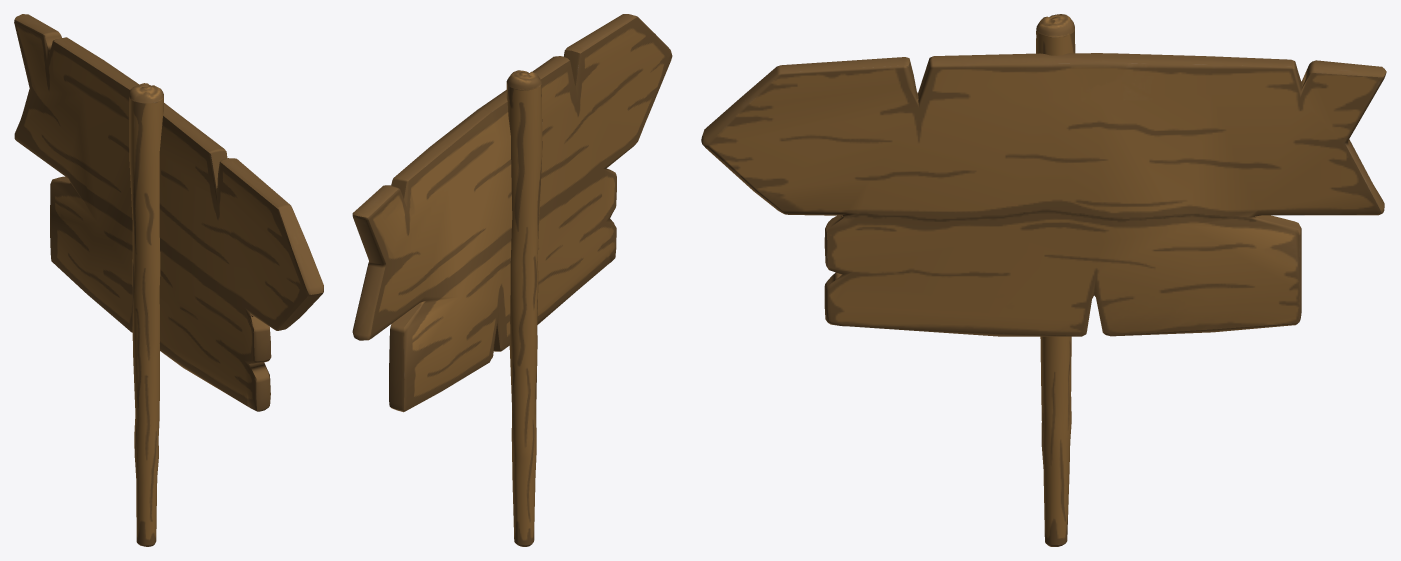
The model's file is SIGNFINISHED.fbx.
The picture shows the model from 3 angles, left to right: view 1: azimuth 30°, elevation 25°; view 2: azimuth 150°, elevation 25°; view 3: azimuth 270°, elevation 25°; orthographic projection. The views are drawn at different scales.
Parts seen in each view (by area): view 1: Blank_Sign1:group6_Wood_01_07_low6SG, Blank_Sign1:Wood_01_07_low_Wood_01_07_low6SG; view 2: Blank_Sign1:group6_Wood_01_07_low6SG, Blank_Sign1:Wood_01_07_low_Wood_01_07_low6SG; view 3: Blank_Sign1:group6_Wood_01_07_low6SG, Blank_Sign1:Wood_01_07_low_Wood_01_07_low6SG.
Part boxes in pixels (x1=…): Blank_Sign1:group6_Wood_01_07_low6SG: x1=14, y1=14, x2=323, y2=411; Blank_Sign1:Wood_01_07_low_Wood_01_07_low6SG: x1=129, y1=83, x2=163, y2=546; Blank_Sign1:group6_Wood_01_07_low6SG: x1=352, y1=14, x2=672, y2=412; Blank_Sign1:Wood_01_07_low_Wood_01_07_low6SG: x1=506, y1=70, x2=542, y2=546; Blank_Sign1:group6_Wood_01_07_low6SG: x1=701, y1=53, x2=1386, y2=336; Blank_Sign1:Wood_01_07_low_Wood_01_07_low6SG: x1=1036, y1=14, x2=1075, y2=546.
Size of the model in its own units: 0.3412 by 3.3 by 3.9.
Materials: 1 (1 with a texture image).
